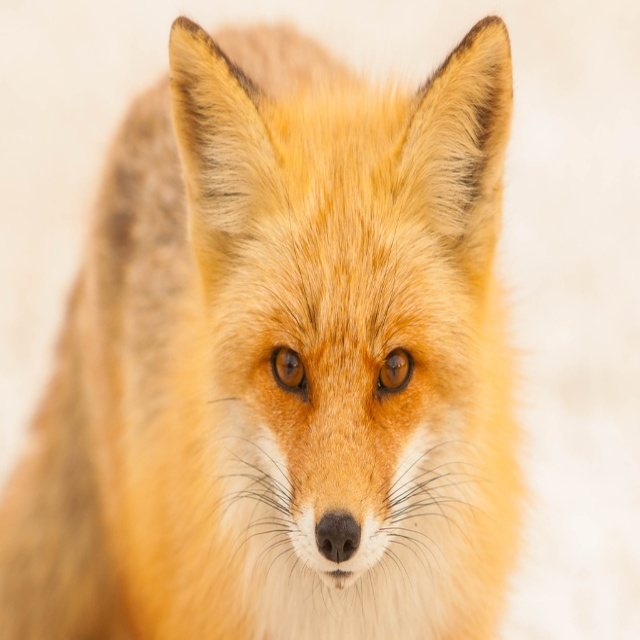Fox: (0, 11, 548, 639)
